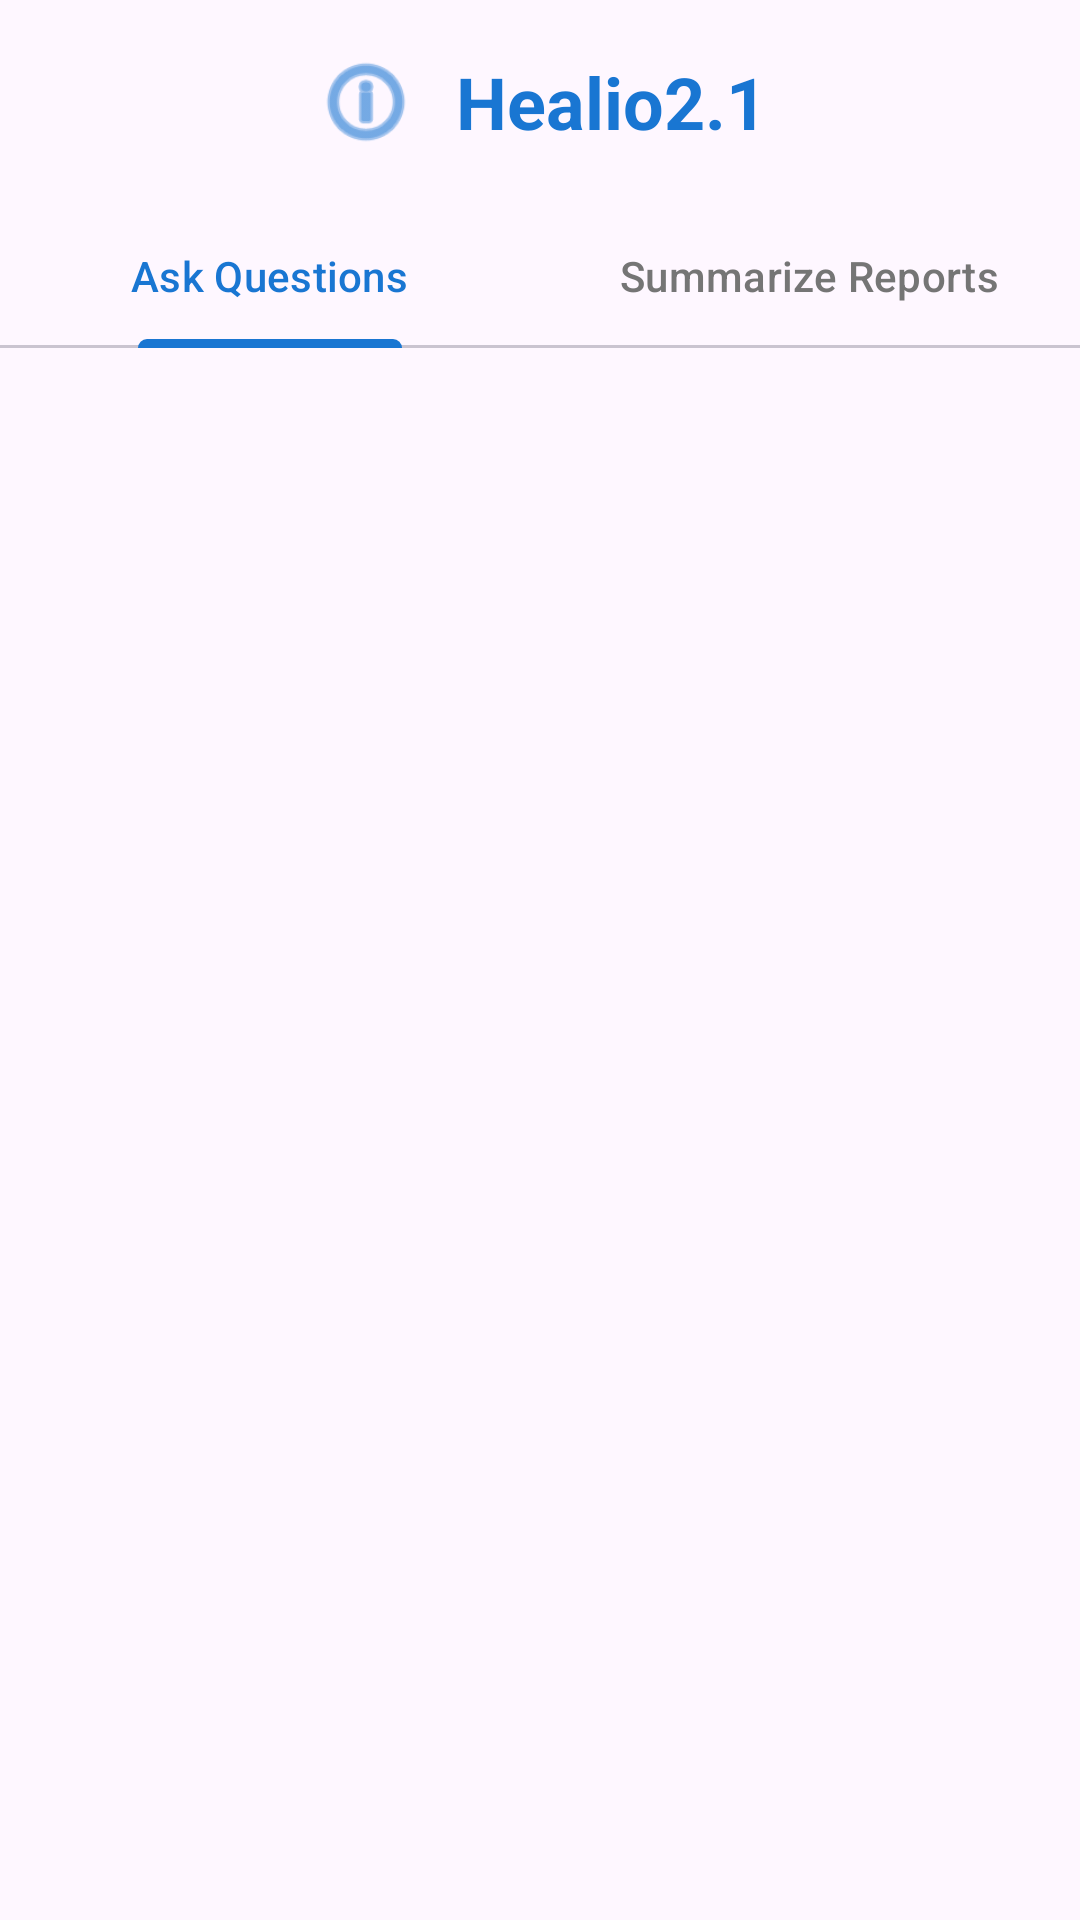

Locate icon controls on the screen. Image size 1080px x 1920px, boxes as box(x1, y1, x2, y2).
info details: box(327, 63, 405, 141)
